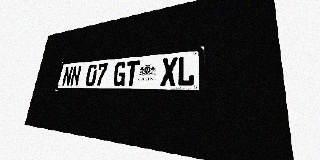0: (85, 64, 98, 86)
7: (94, 63, 108, 86)
G: (112, 61, 127, 86)
L: (177, 55, 195, 86)
N: (69, 65, 82, 86), (61, 66, 73, 86)
T: (124, 60, 140, 86)
X: (160, 57, 177, 86)
